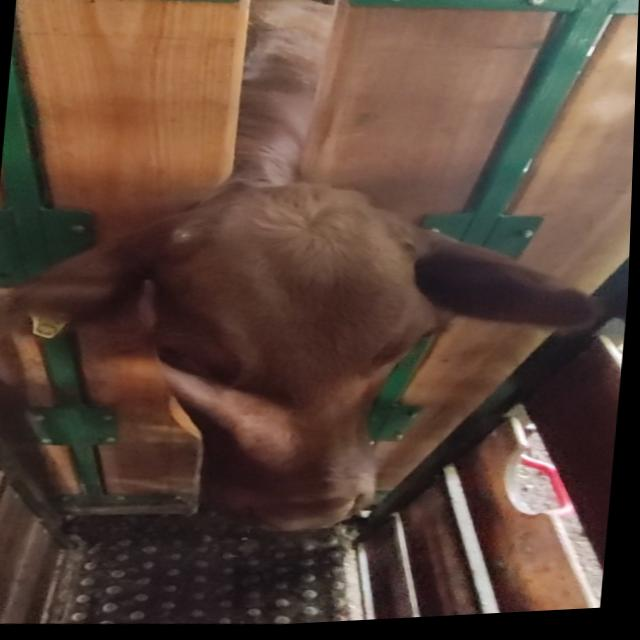cowFace: (134, 177, 458, 546)
